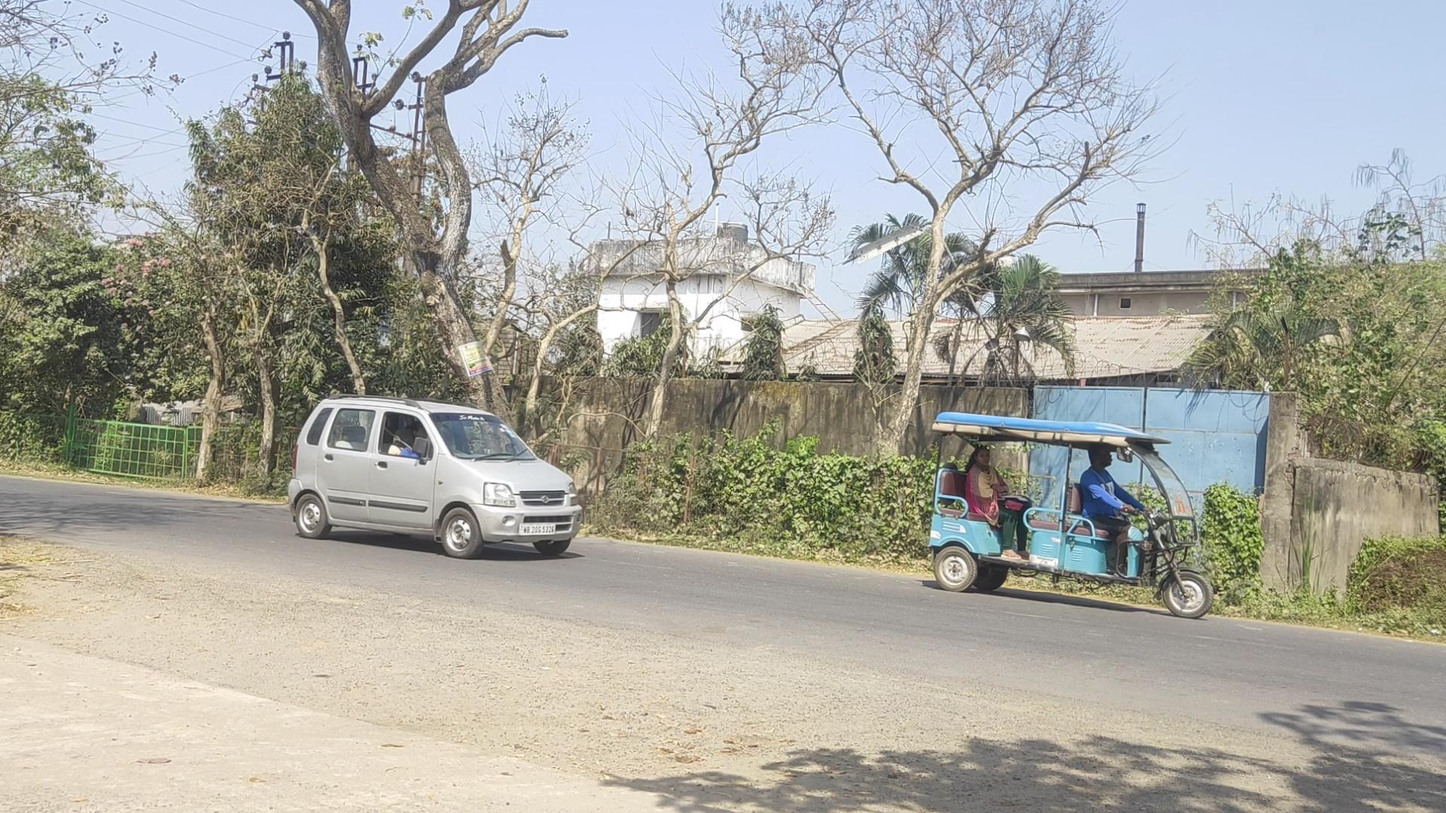Auto: (926, 410, 1210, 619)
car: (286, 397, 583, 559)
